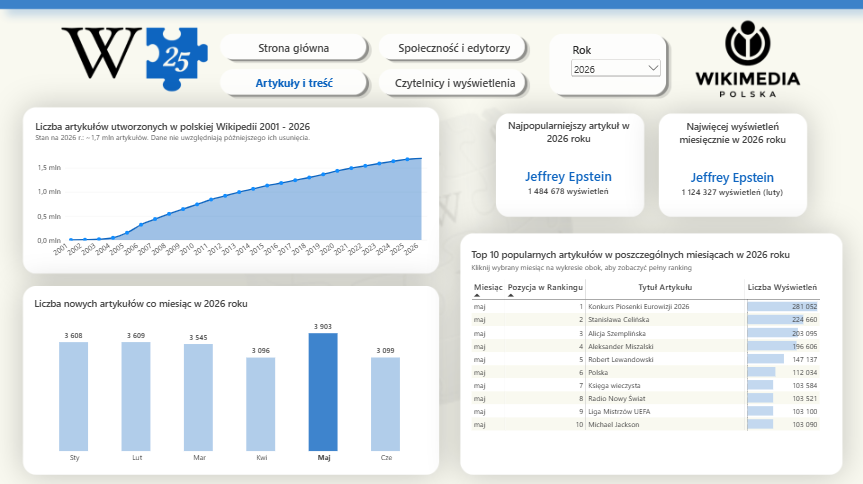

This screenshot's page, from the dashboard's own definition file:
{"tool":"powerbi","page":{"name":"2_Artykuły i treść","canvas":[1920,1080],"ordinal":1},"visuals":[{"type":"actionButton","box":[539.1,155.5,227.3,57.8],"z":0},{"type":"actionButton","box":[845.3,74.3,329.8,65.5],"z":1000},{"type":"actionButton","box":[846.9,155.5,329.7,57.8],"z":2000},{"type":"actionButton","box":[513.3,77.3,278.6,58.3],"z":3000},{"type":"clusteredColumnChart","fields":{"Category":["DimDate.Miesiąc Skrót"],"Y":["Sum(2_nowe_artykuly_clean.Liczba Nowych Artykułów)"]},"box":[60.5,644.7,905.3,403.9],"z":4000},{"type":"areaChart","title":"Liczba artykułów utworzonych w polskiej Wikipedii 2001 - 2026","fields":{"Category":["DimDate.Rok"],"Y":["_MEASURES.Suma Skumulowana Artykulow mln"]},"box":[61.8,250,902.6,351.3],"z":5000},{"type":"tableEx","fields":{"Values":["DimDate.Miesiąc","5_top_1000_artykulow_clean.Pozycja w Rankingu","5_top_1000_artykulow_clean.Tytuł Artykułu","5_top_1000_artykulow_clean.Liczba Wyświetleń"]},"box":[1030.3,535.7,835.9,499],"z":6000},{"type":"cardVisual","fields":{"Data":["_MEASURES.Top Artykul Nazwa Rok"]},"box":[1109.5,265.1,309.5,207.9],"z":7000},{"type":"cardVisual","fields":{"Data":["_MEASURES.Największy Szczyt Miesięczny"]},"box":[1473.7,265.8,309.2,209.2],"z":8000},{"type":"slicer","title":"Rok","fields":{"Values":["DimDate.Rok"]},"box":[1240,93.3,208.9,86.7],"z":9000}]}

Visuals, with their boxes in screenshot pixels (x1, y1, x2, y2), scaled from the page's 1920x1080 canvas onto the 863x484 screenshot:
actionButton: locate(242, 70, 344, 96)
actionButton: locate(380, 33, 528, 63)
actionButton: locate(381, 70, 529, 96)
actionButton: locate(231, 35, 356, 61)
clusteredColumnChart - DimDate.Miesiąc Skrót x Sum(2_nowe_artykuly_clean.Liczba Nowych Artykułów): locate(27, 289, 434, 470)
"Liczba artykułów utworzonych w polskiej Wikipedii 2001 - 2026" areaChart: locate(28, 112, 433, 269)
tableEx - DimDate.Miesiąc x 5_top_1000_artykulow_clean.Pozycja w Rankingu: locate(463, 240, 839, 464)
cardVisual - _MEASURES.Top Artykul Nazwa Rok: locate(499, 119, 638, 212)
cardVisual - _MEASURES.Największy Szczyt Miesięczny: locate(662, 119, 801, 213)
"Rok" slicer: locate(557, 42, 651, 81)
